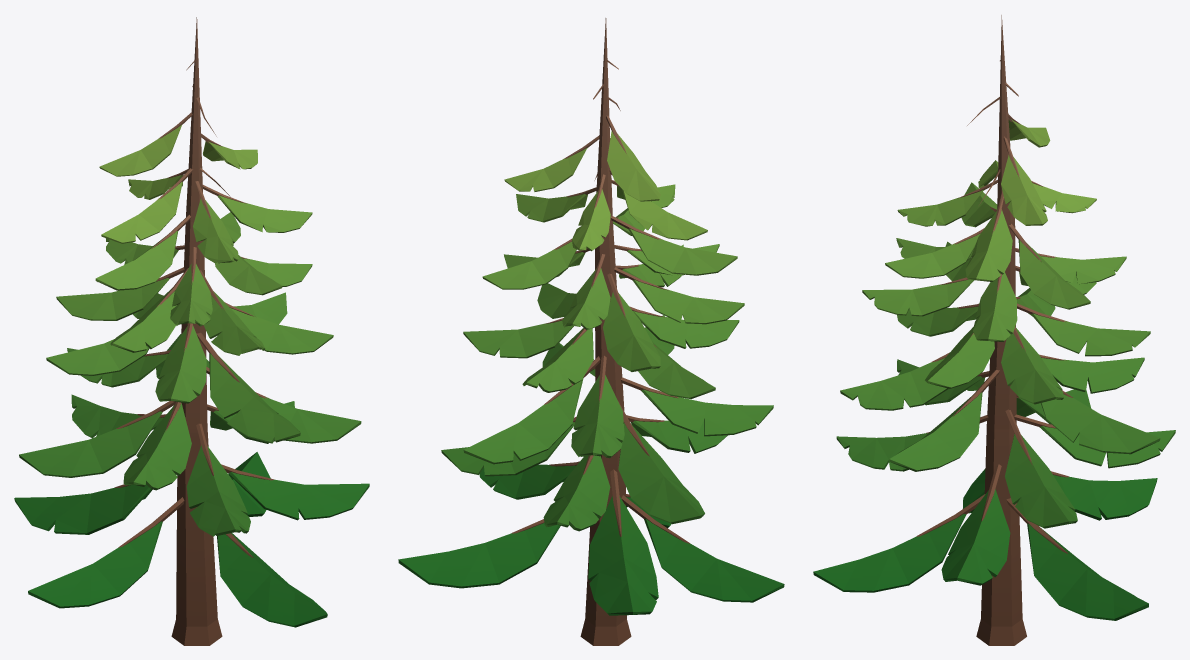
Rendered from SM_Nature_Tree_12.fbx.
The picture shows the model from 3 angles, left to right: view 1: azimuth 30°, elevation 25°; view 2: azimuth 150°, elevation 25°; view 3: azimuth 270°, elevation 25°; orthographic projection.
Visible parts, largest first — view 1: SM_Nature_Tree_12_LOD0; view 2: SM_Nature_Tree_12_LOD0; view 3: SM_Nature_Tree_12_LOD0.
Part boxes in pixels (x1,y1,x2,y2): SM_Nature_Tree_12_LOD0: (14,17,369,645); SM_Nature_Tree_12_LOD0: (398,18,784,645); SM_Nature_Tree_12_LOD0: (813,15,1175,645).
Size of the model in its own units: 304 by 557 by 294.
